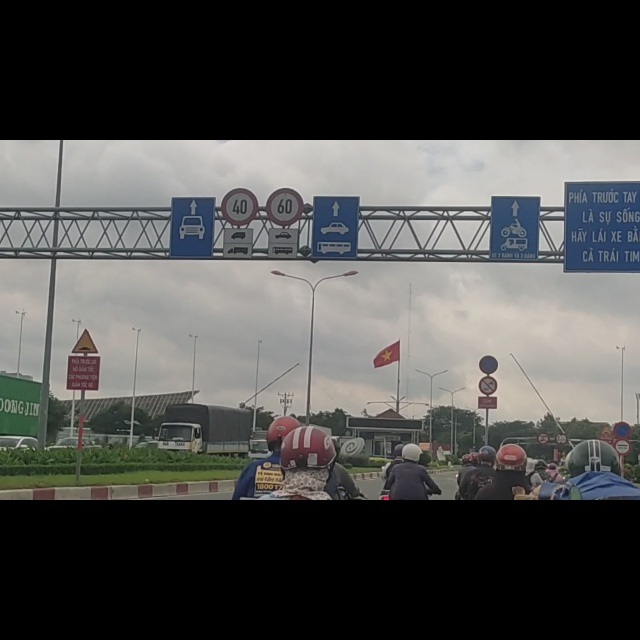bien_nguy_hiem: (267, 85, 304, 153), (222, 85, 258, 154), (71, 335, 99, 380), (479, 383, 499, 417), (478, 421, 497, 454), (613, 501, 631, 531), (613, 532, 631, 559), (555, 521, 569, 542), (537, 519, 549, 540), (601, 507, 613, 525)
